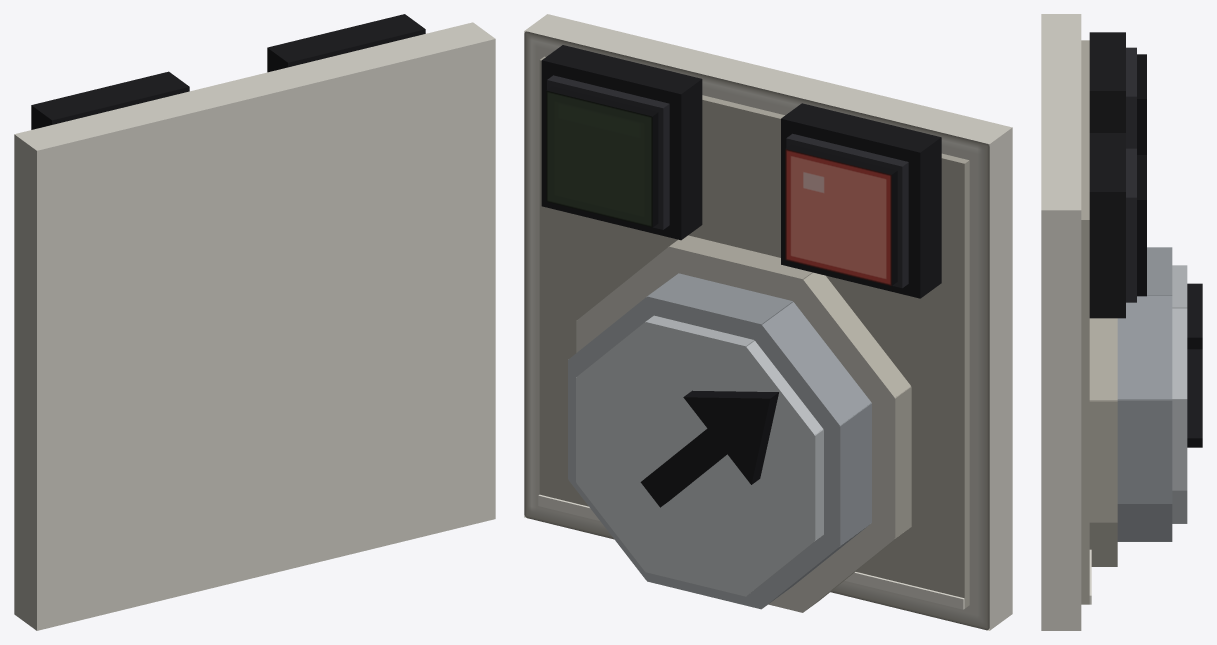
Rendered from knob_switch_close.obj.
The picture shows the model from 3 angles, left to right: view 1: azimuth 30°, elevation 25°; view 2: azimuth 150°, elevation 25°; view 3: azimuth 270°, elevation 25°; orthographic projection. The views are drawn at different scales.
Parts seen in each view (by area): view 1: Panel, LampRed, LampGreen; view 2: Panel, Knob, LampGreen, LampRed; view 3: Panel, Knob, LampGreen, LampRed.
Part boxes in pixels (x1,y1,x2,y2): Panel: (14, 22, 495, 630); LampRed: (31, 71, 189, 129); LampGreen: (267, 14, 425, 72); Panel: (524, 14, 1012, 630); Knob: (568, 235, 911, 612); LampGreen: (541, 45, 702, 240); LampRed: (781, 103, 941, 298); Panel: (1041, 14, 1091, 630); Knob: (1089, 247, 1202, 566); LampGreen: (1089, 133, 1146, 318); LampRed: (1089, 32, 1146, 154).
Size of the model in its own units: 0.875 by 0.8875 by 0.3038.
1 material, 1 textured.
